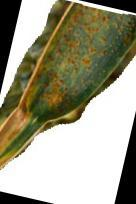Wheat: (62, 14, 118, 57), (36, 58, 77, 106)
